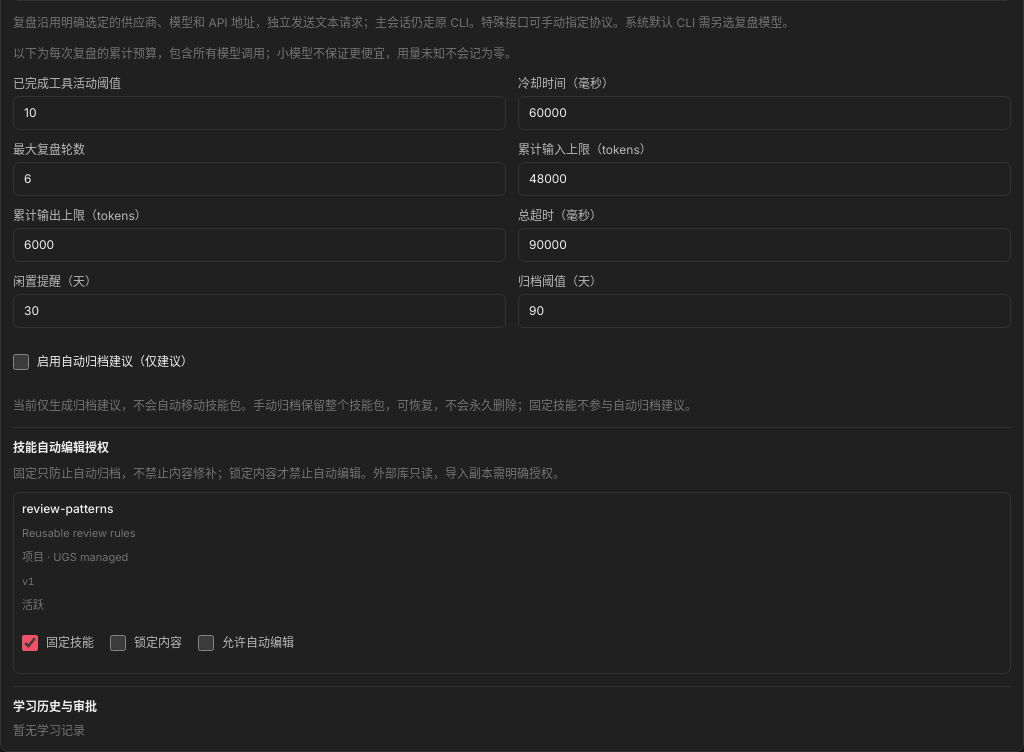
Test: SkillLearningSettings › shows current catalog metadata after a same-id host revision update
(page scrolled)
What coordinates should you click on to do the following:
click the checkbox named "允许自动编辑 review-patterns"
I would click on:
 (206, 643)
Its box is [198,635,214,651].
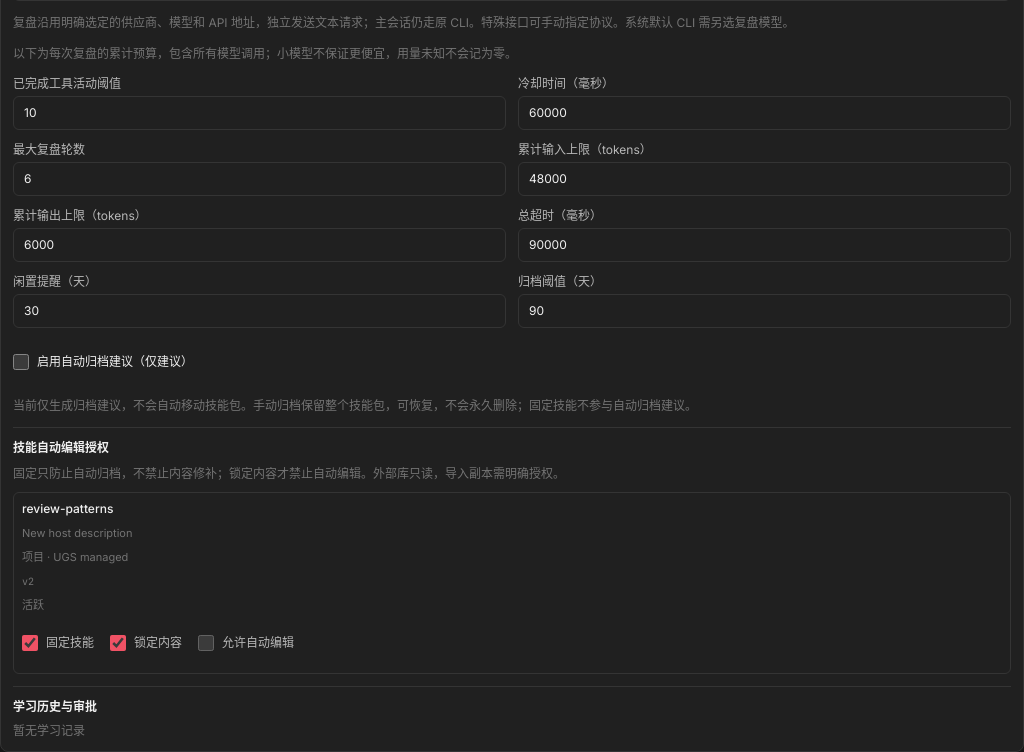
Check: the text "New host description" is shown, box [22,526,132,540]
Check: the checkbox named "锁定内容 review-patterns" is checked, box [110,635,126,651]
Check: the checkbox named "允许自动编辑 review-patterns" is disabled, box [198,635,214,651]
